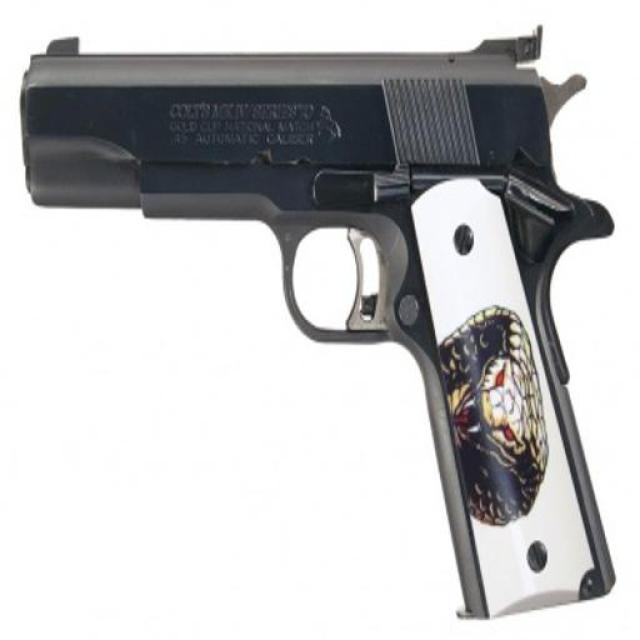pistol: (8, 19, 624, 625)
